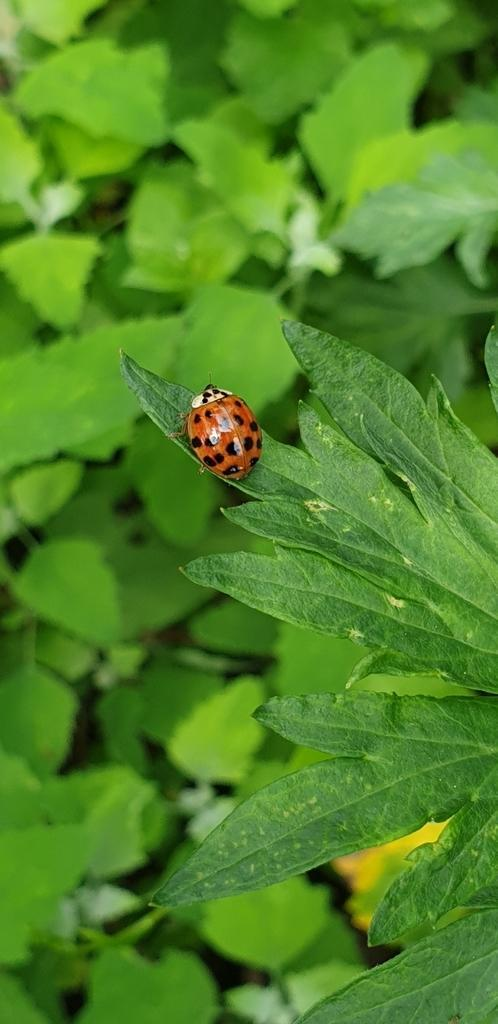ladybug: (174, 379, 271, 486)
